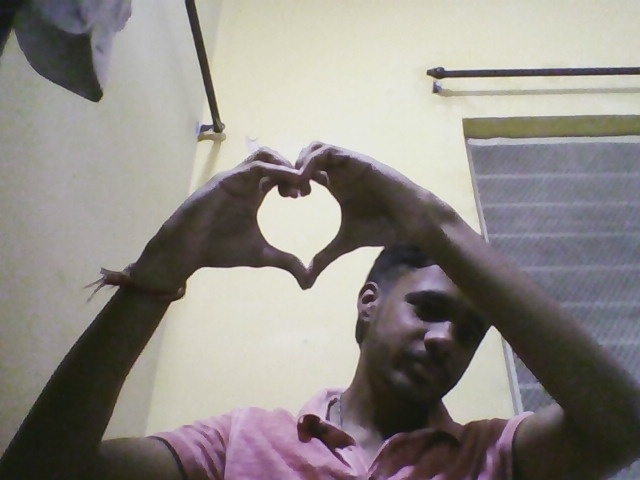iloveyou: (152, 130, 447, 292)
